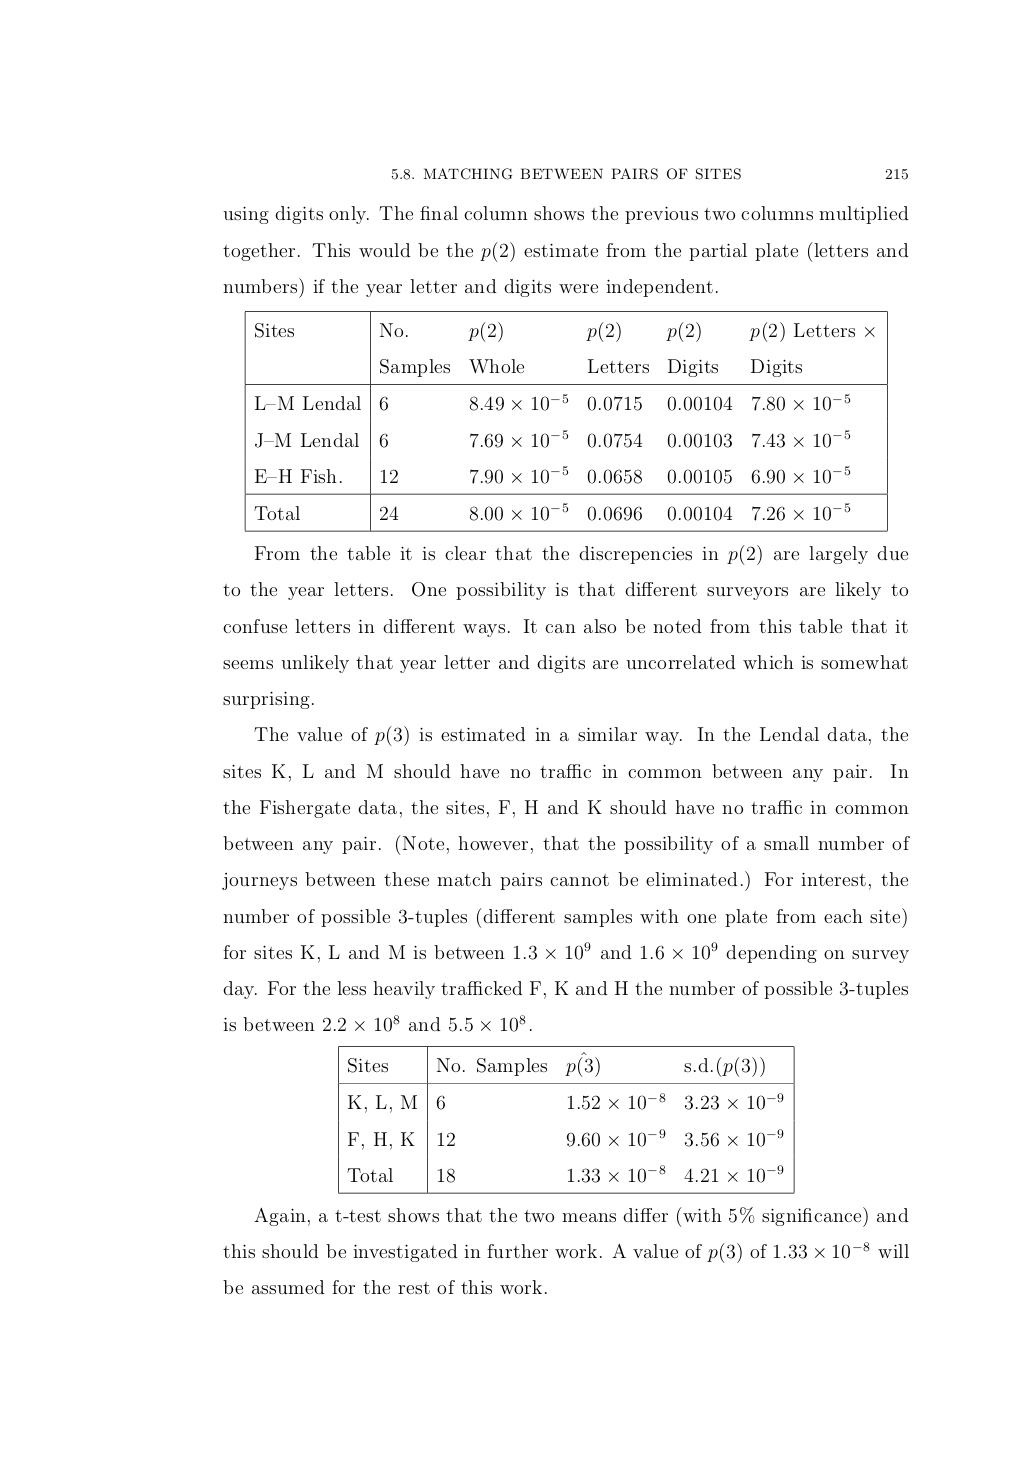Table: (244, 310, 887, 532), (338, 1045, 794, 1194)
